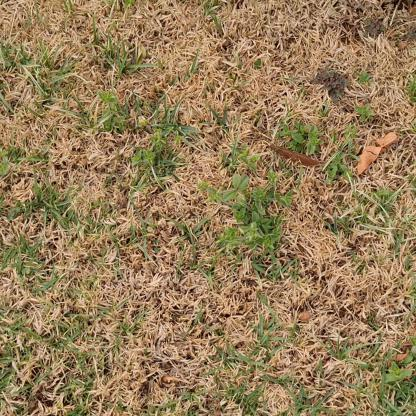Weeds: (194, 150, 294, 257), (132, 119, 180, 179), (281, 122, 325, 155), (95, 86, 126, 132), (313, 68, 348, 102), (324, 148, 351, 184), (382, 362, 414, 385), (355, 103, 375, 124), (357, 70, 373, 85)
